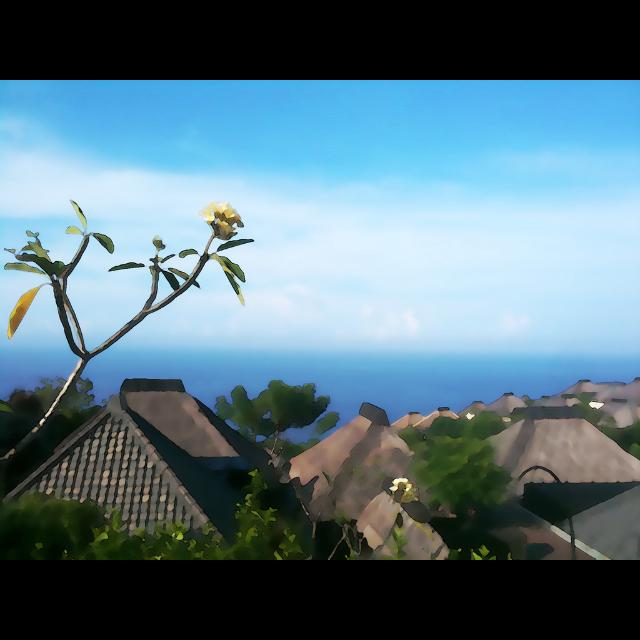Flower: (201, 191, 247, 245), (391, 477, 413, 495)
